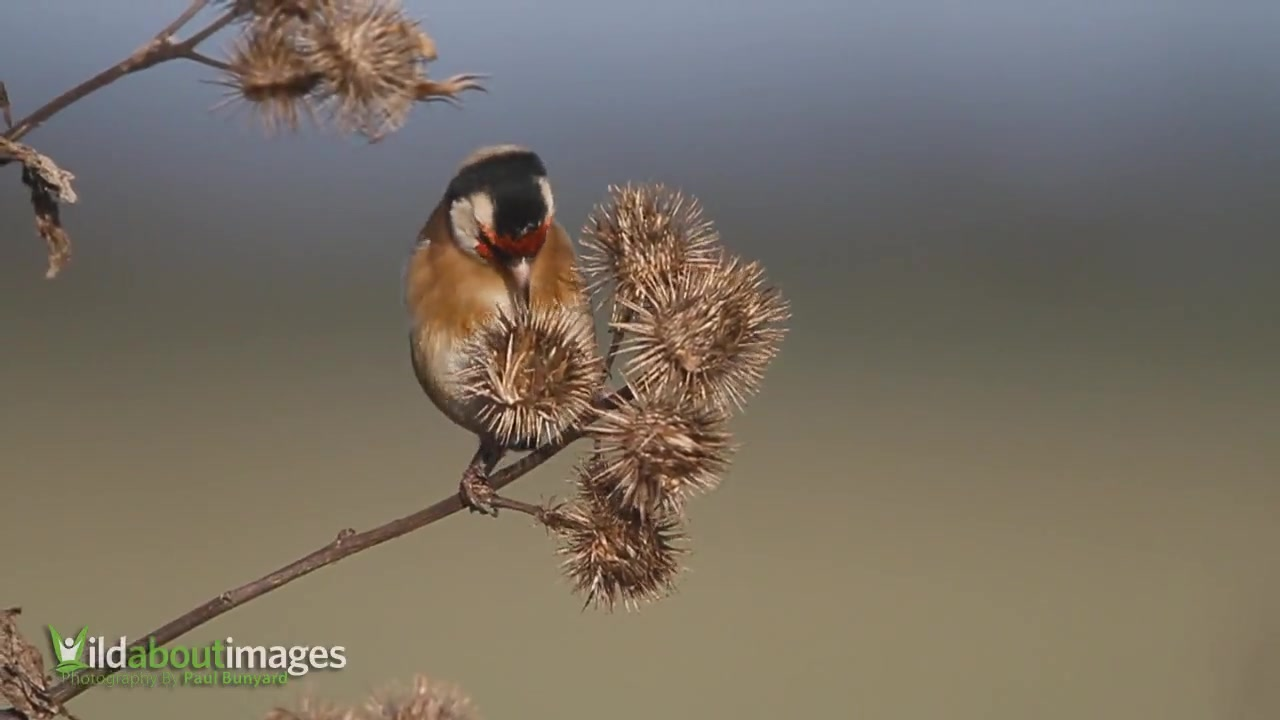bird: (398, 143, 598, 510)
